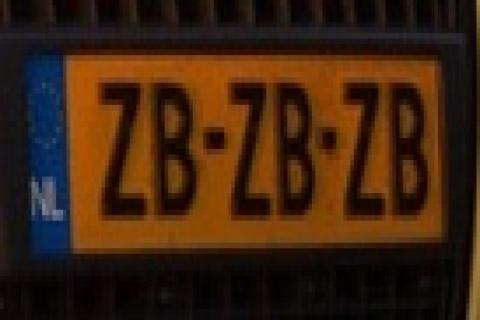LicensePlate: (16, 30, 454, 286)
